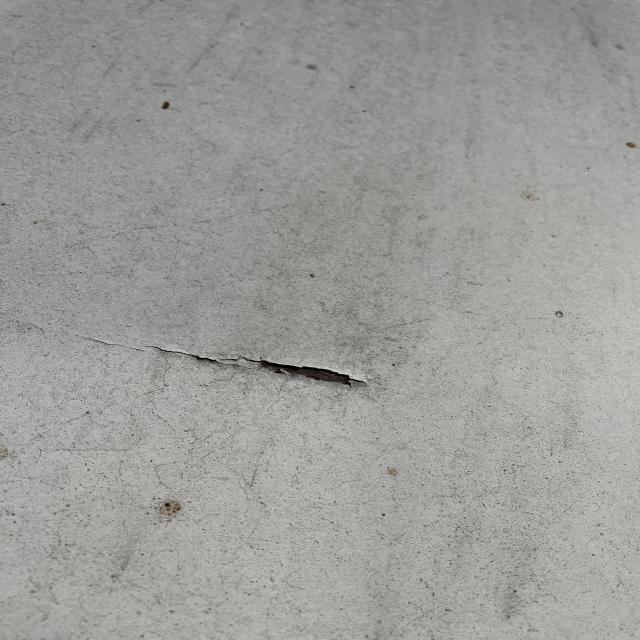crack: (99, 332, 372, 400)
